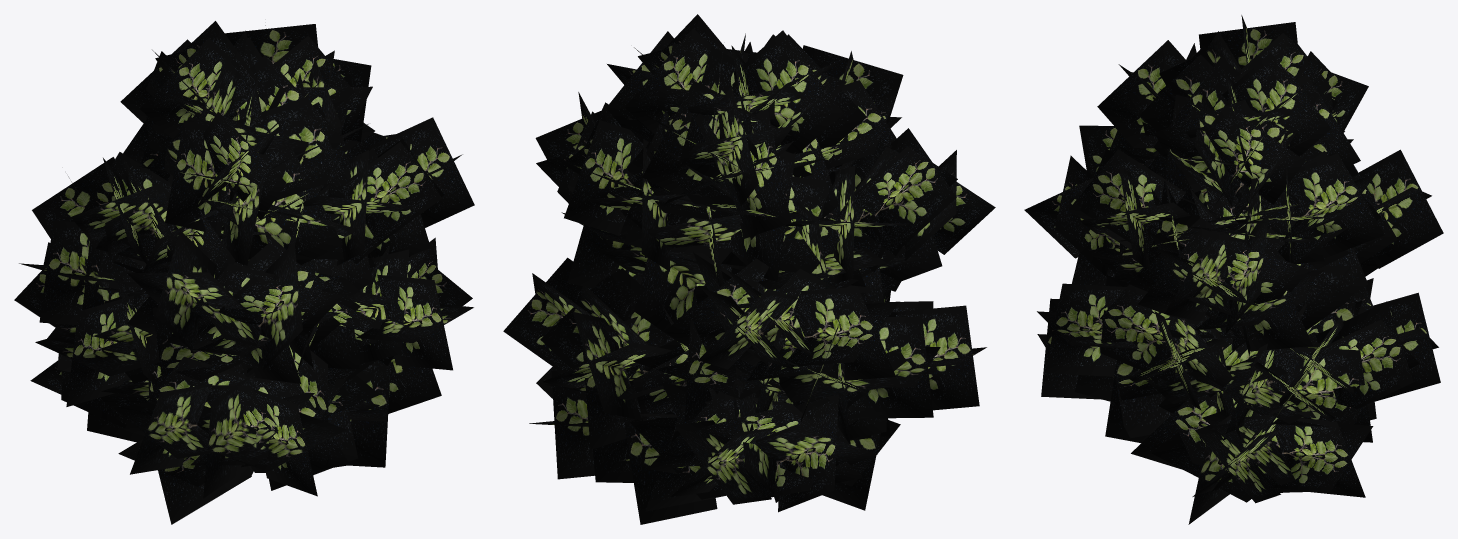
File: leaves.glb
3 views of the same model, side by side, from view 1: azimuth 30°, elevation 25°; view 2: azimuth 150°, elevation 25°; view 3: azimuth 270°, elevation 25° (orthographic). The views are drawn at different scales.
Visible parts, largest first — view 1: leaves; view 2: leaves; view 3: leaves.
Part boxes in pixels (left/top/right/bottom): leaves: left=14, top=21, right=474, bottom=524; leaves: left=503, top=14, right=995, bottom=524; leaves: left=1024, top=15, right=1443, bottom=524.
Bounding box in the file's own units: 37.59 × 41.69 × 34.99.
1 material, 1 textured.
